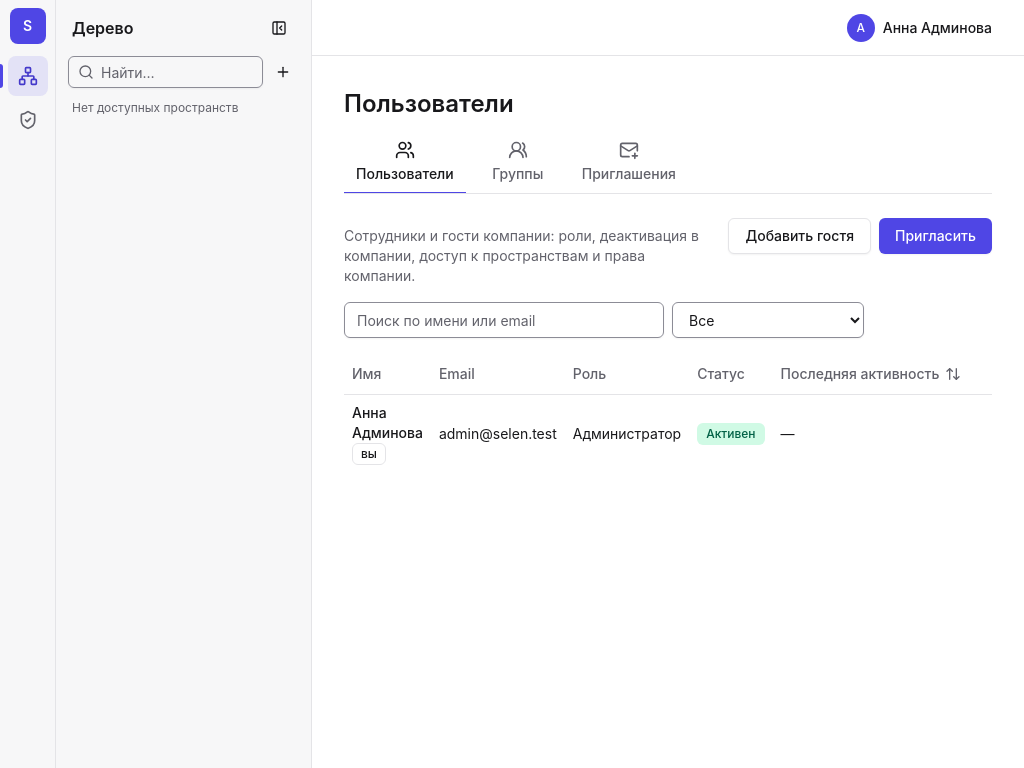
Test: Админка пользователей › обычный администратор приглашает только участника
The image size is (1024, 768).
Click the button "Пригласить".
click(936, 236)  # box [879,218,992,254]
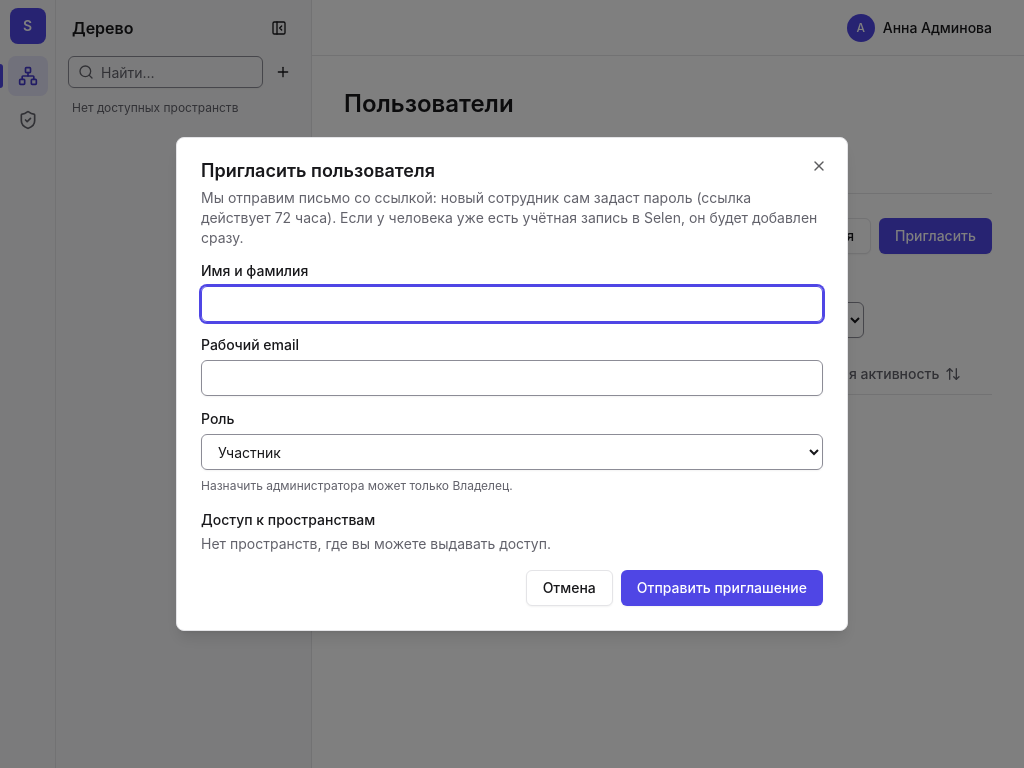
expect the text "Назначить администратора может только Владелец." is shown: met, box [201,478,513,493]
